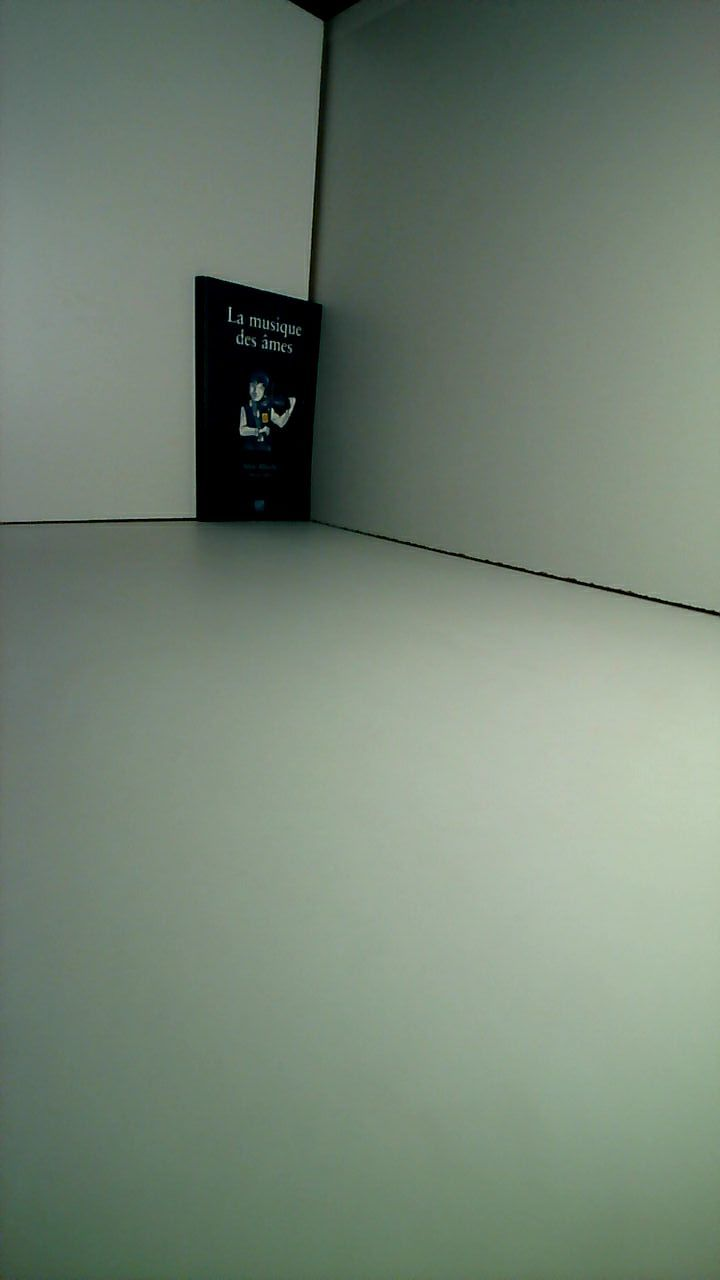book: (168, 253, 345, 557)
